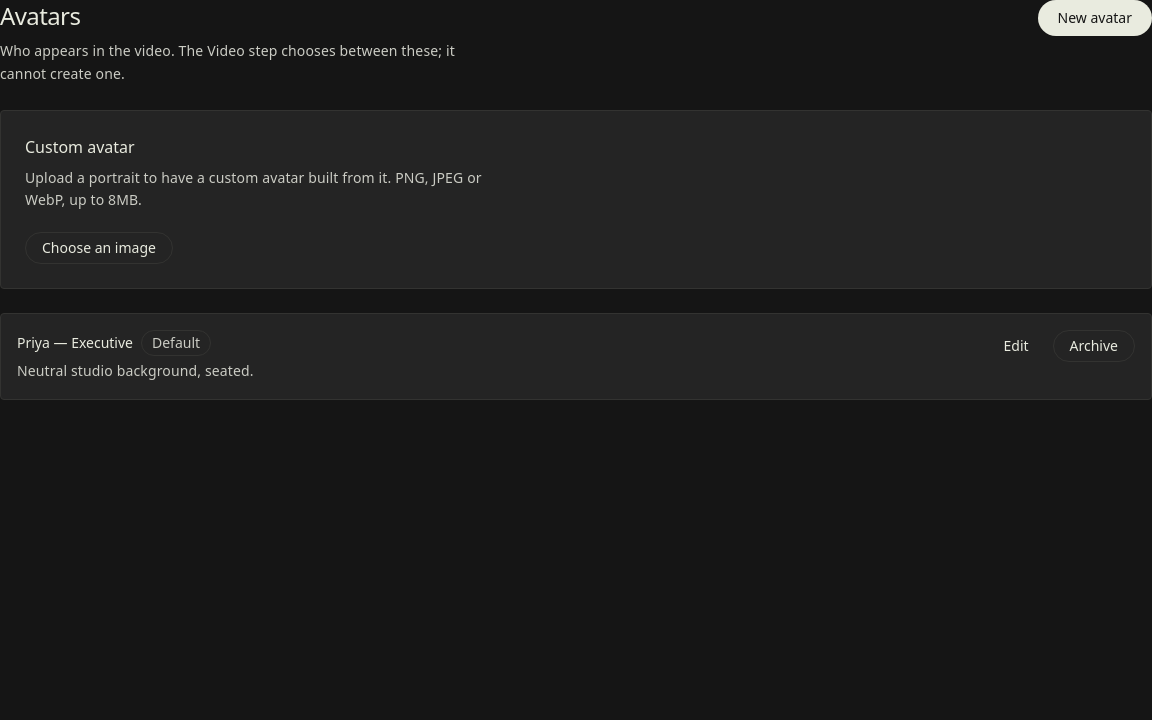
Scenario: PresetList · creating › will not save a preset with no name
Expected: the text "Priya — Executive" is shown, [17, 333, 133, 353]
Click the button "New avatar" at x=1095, y=18, box [1038, 0, 1151, 36]
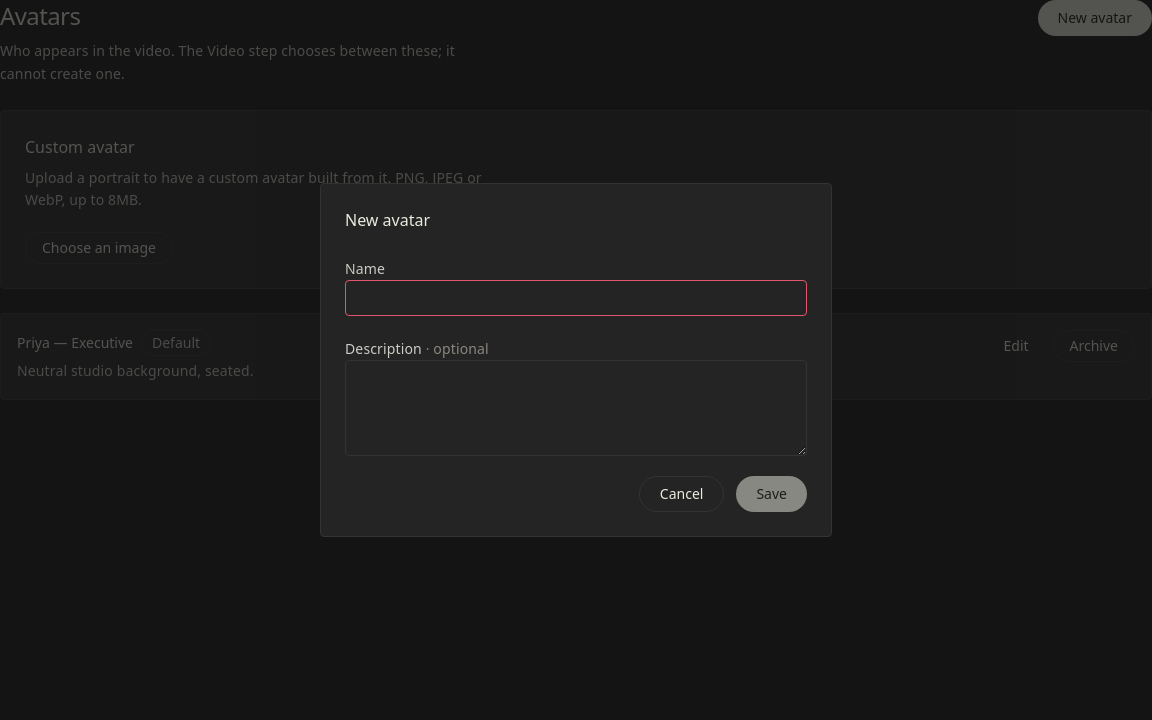
Expected: the button "Save" is disabled, [736, 476, 807, 512]
